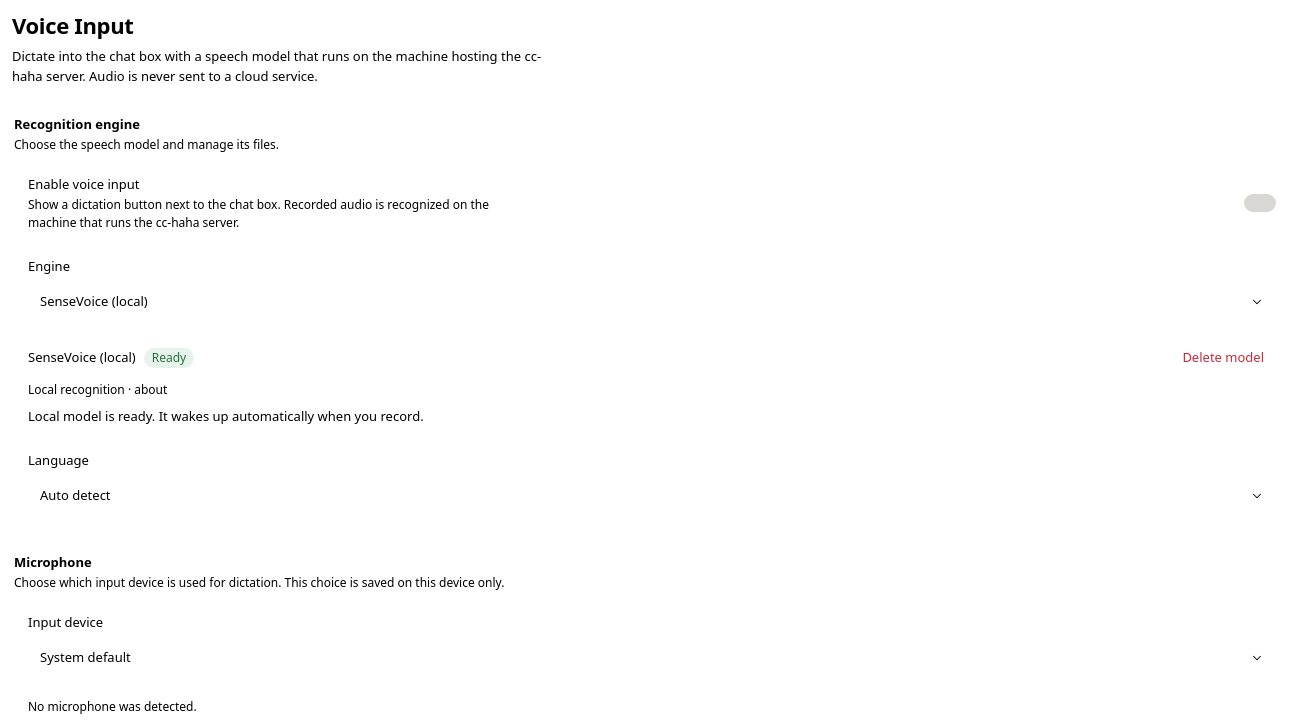
VoiceInputSettings preferences › falls back to the raw code for a language it has no label for
expect the element with test id "voice-model-status" is shown: met, box [12, 330, 1291, 438]
What coordinates should you click on to do the following:
click the button with aria-label "Language"
I would click on:
 (75, 495)
Its box is [28, 480, 1276, 512].
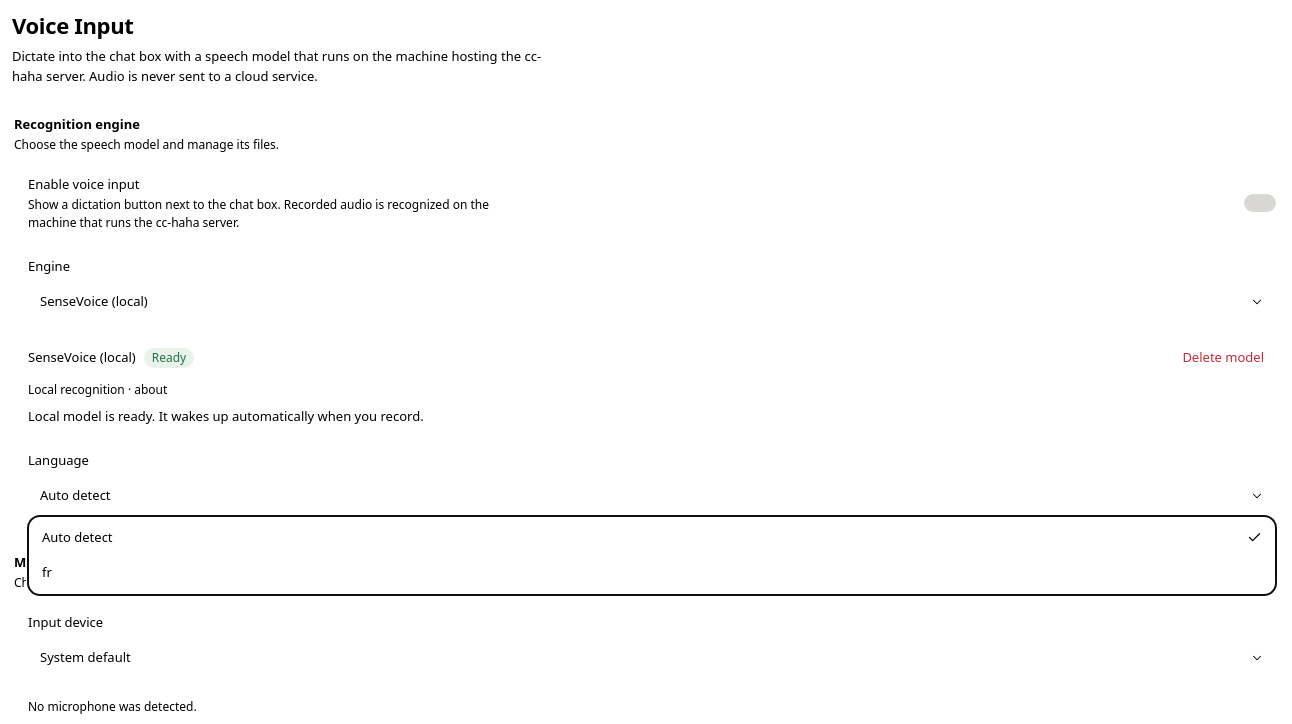
expect the option "fr" is shown: met, box [42, 563, 52, 581]
